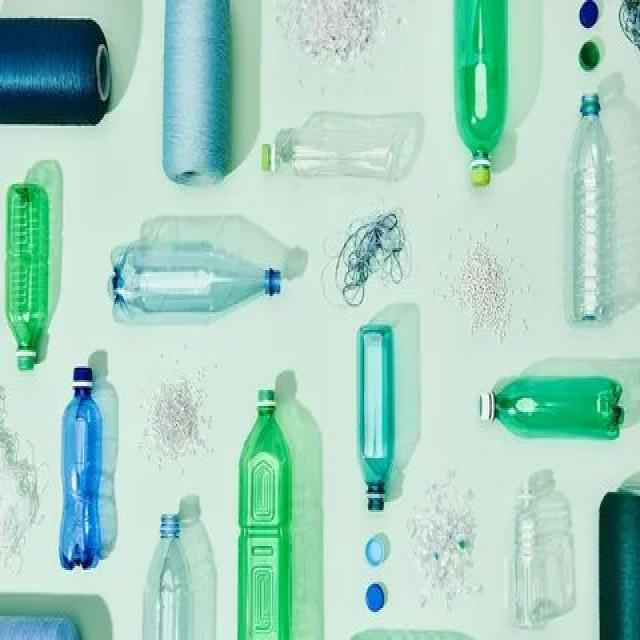blue: (107, 245, 281, 313), (567, 95, 613, 323), (140, 515, 192, 640)
green: (241, 388, 293, 640), (453, 2, 509, 163), (496, 375, 624, 442), (4, 185, 50, 367)
